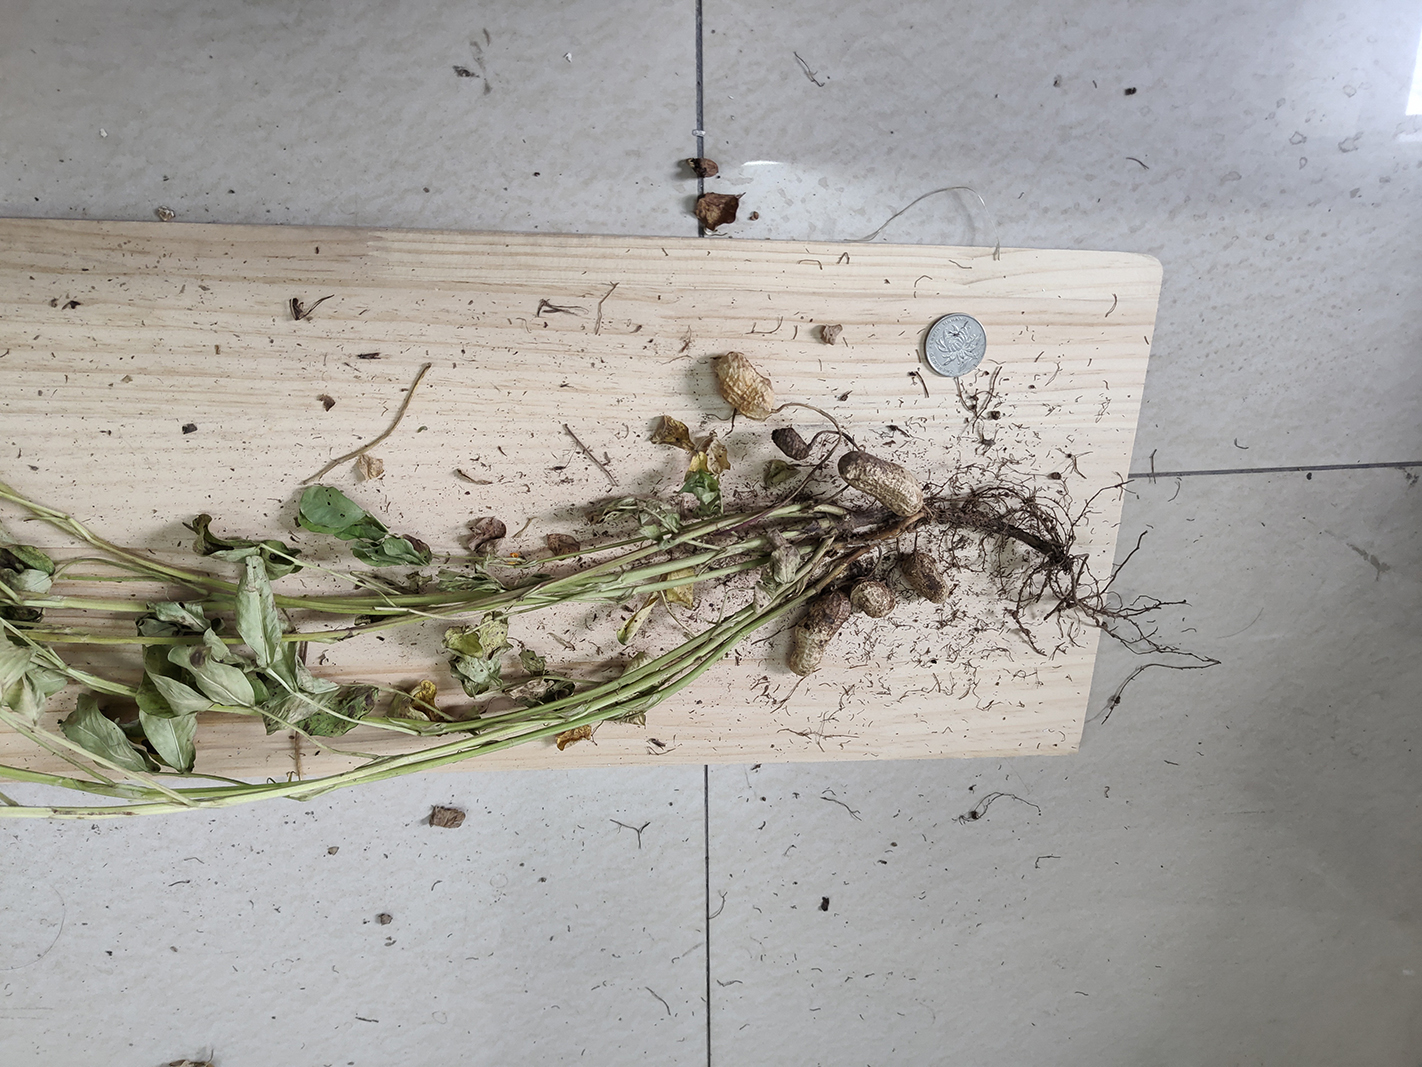h: (786, 587, 852, 676), (838, 451, 924, 516), (714, 352, 773, 419), (851, 579, 898, 618)
l: (903, 551, 950, 604), (771, 426, 810, 461)
